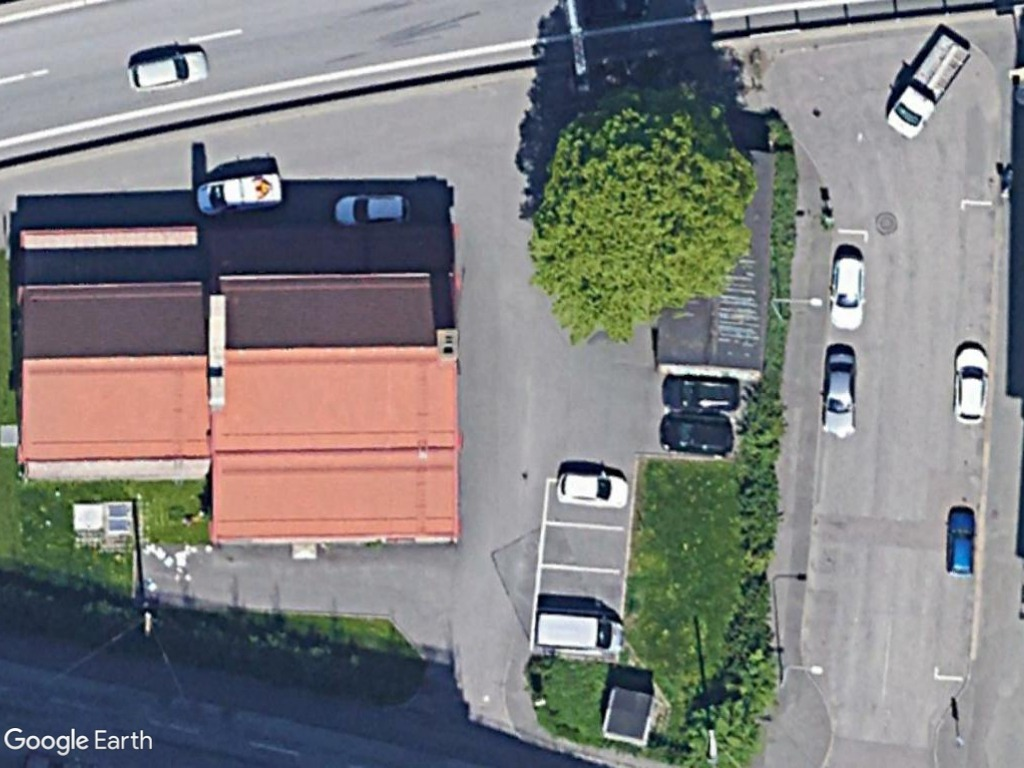car: (121, 37, 216, 101), (814, 338, 863, 437), (655, 369, 747, 418), (947, 336, 993, 429), (823, 252, 870, 336), (552, 464, 638, 508), (945, 501, 982, 580)
other: (883, 28, 975, 144)
van: (534, 607, 632, 660)
